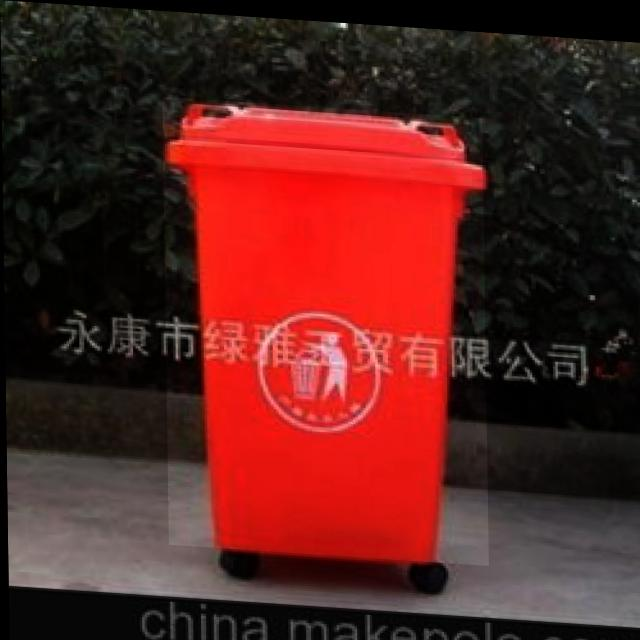garbage_bin: (163, 94, 488, 559)
